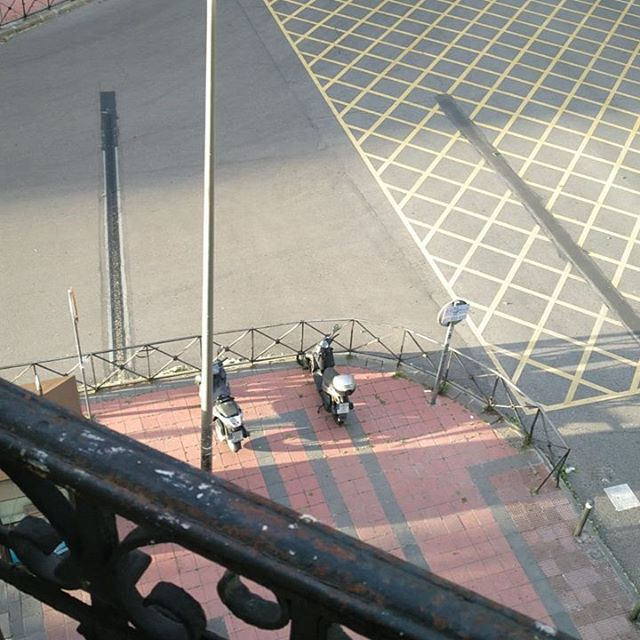motorcycle: (293, 329, 374, 436), (189, 348, 261, 447)
sidewalk: (106, 378, 608, 640)
street: (39, 1, 640, 357)
